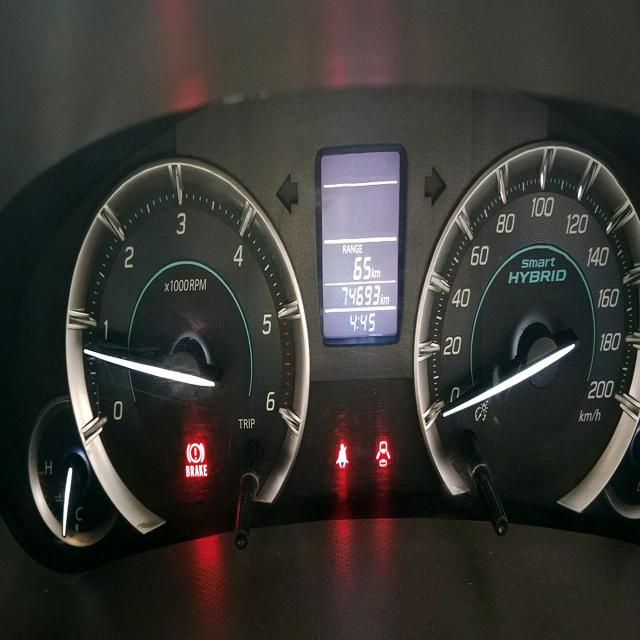odometer: (335, 284, 385, 312)
